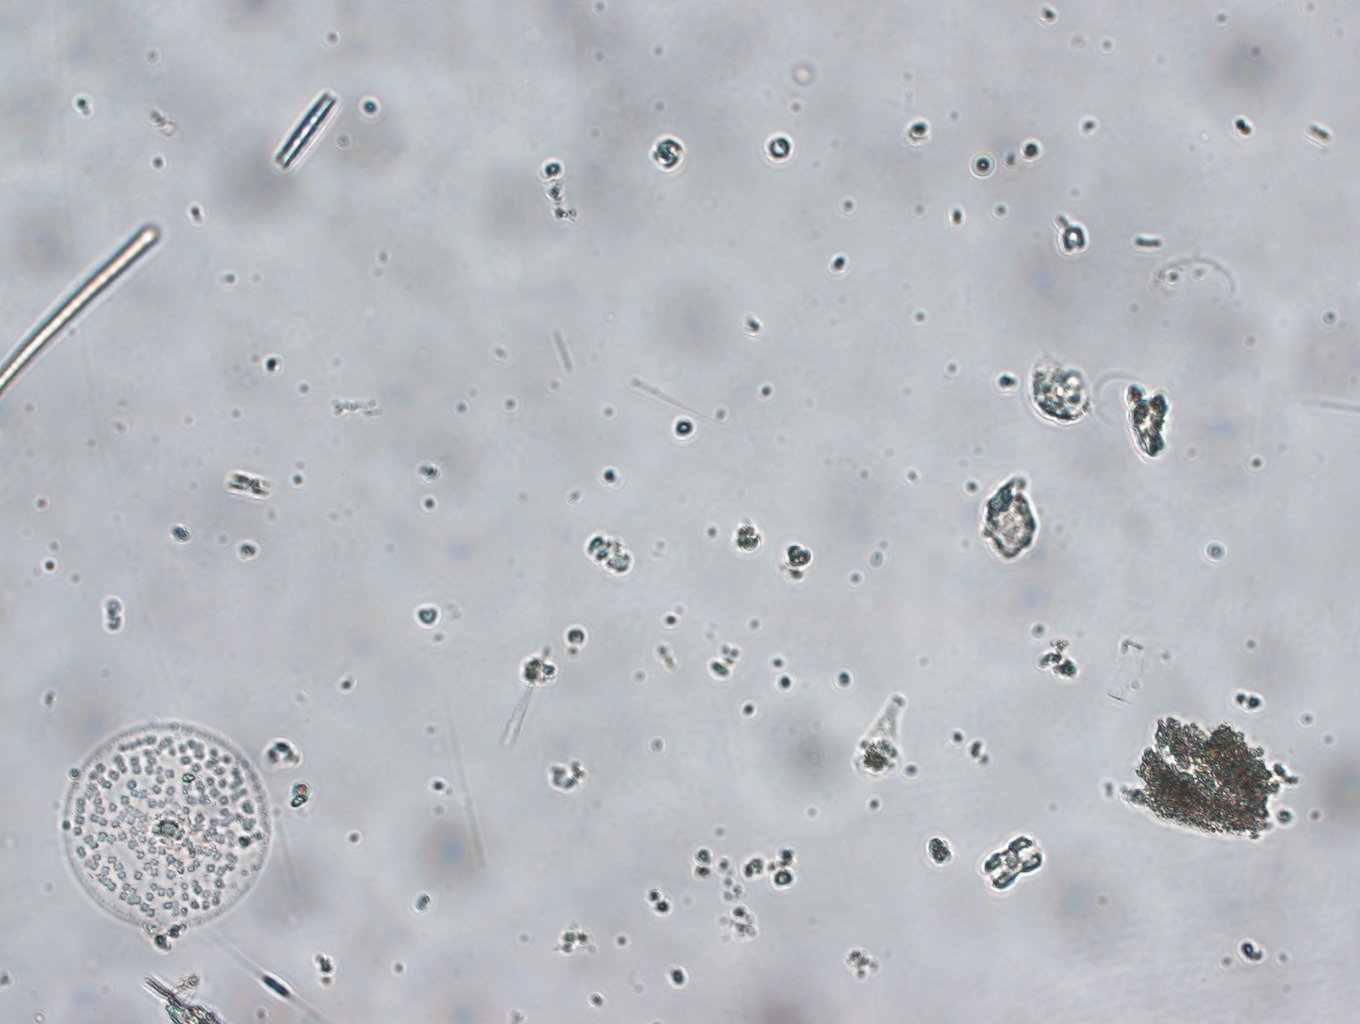coscinodiscus: (51, 717, 278, 935)
